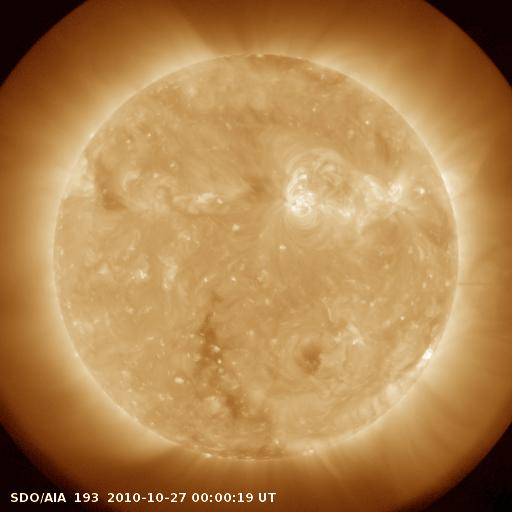coronal_hole: (185, 319, 249, 410), (92, 161, 130, 213), (294, 340, 327, 376)
